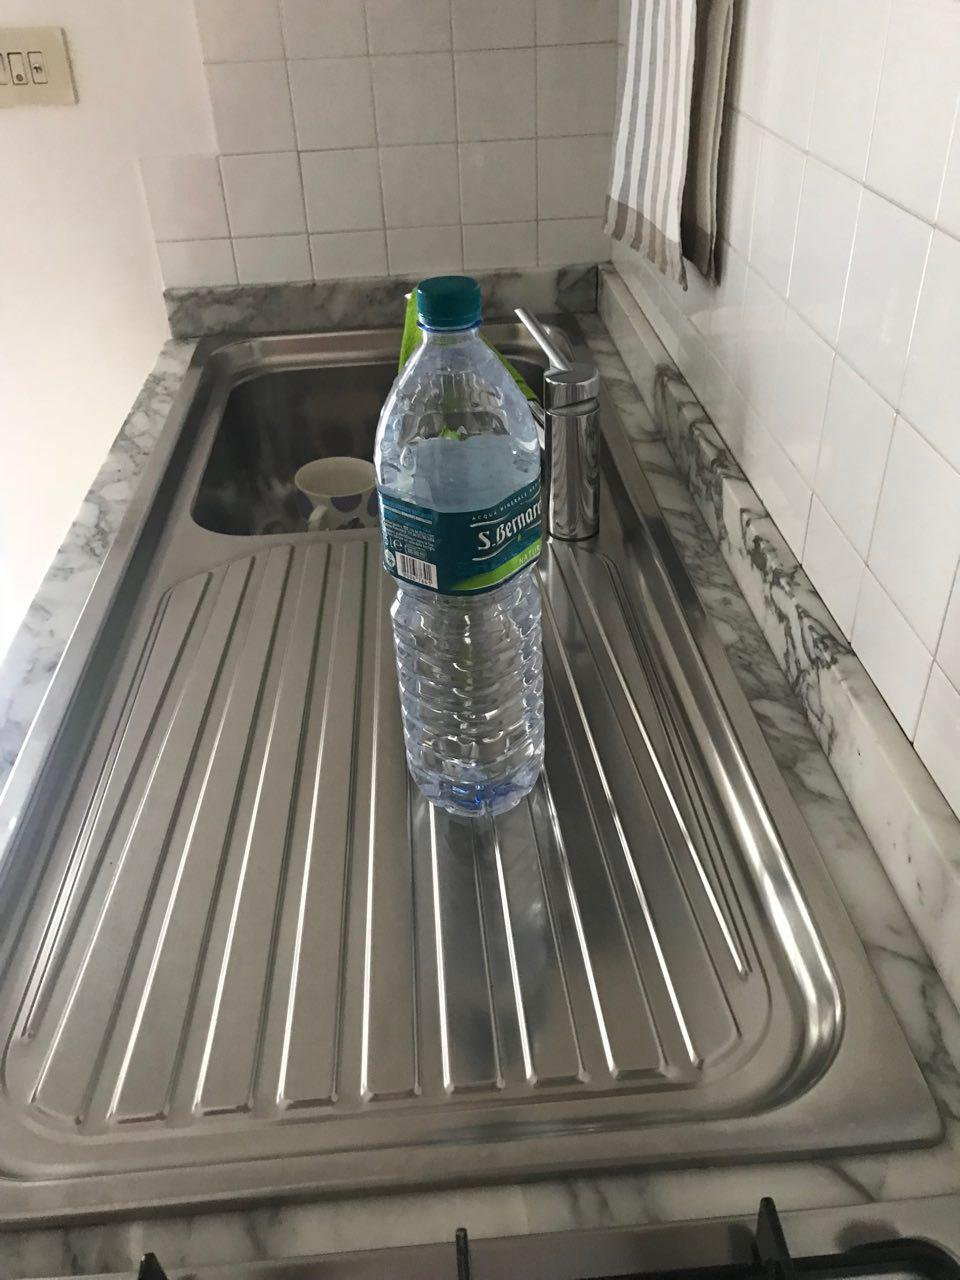san_bernardo: (373, 274, 544, 817)
